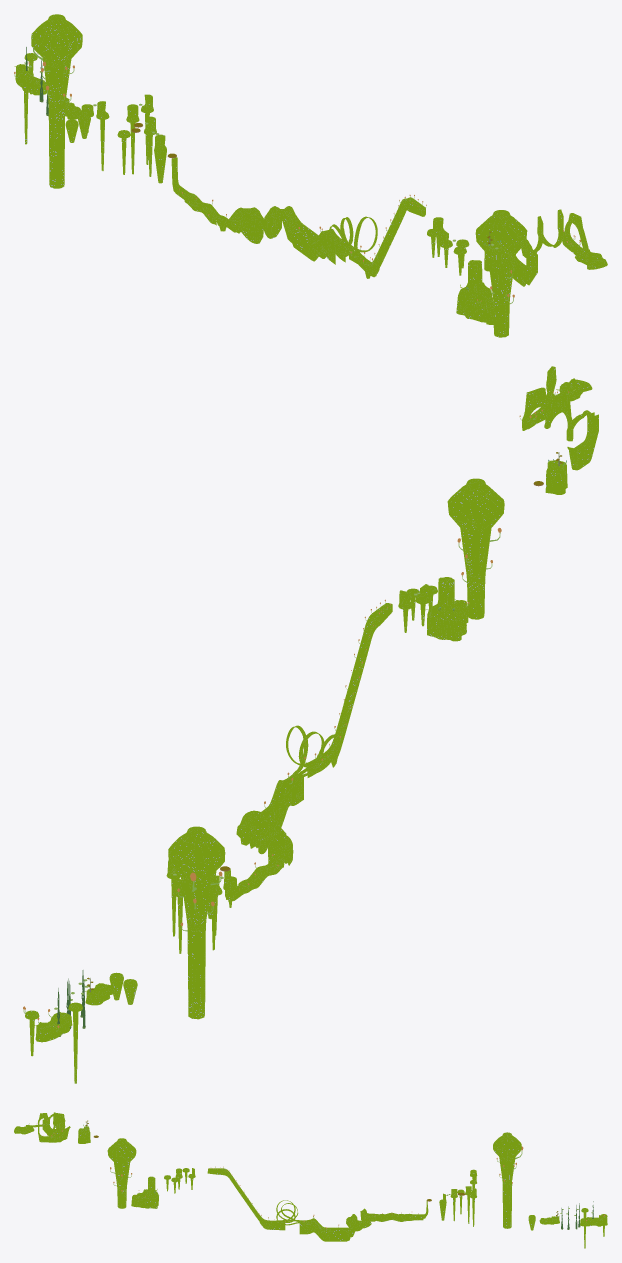
File: CollisionSmooth3.obj
3 renders of one model, top to bottom at view 1: azimuth 30°, elevation 25°; view 2: azimuth 150°, elevation 25°; view 3: azimuth 270°, elevation 25°, orthographic. The views are drawn at different scales.
Bounding box in the file's own units: 2794 × 5169 × 18457.
16 materials, 16 textured.
